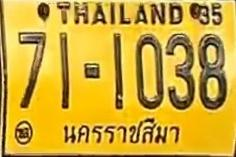0: (136, 34, 163, 109)
1: (112, 33, 124, 108), (59, 33, 70, 108)
3: (165, 34, 195, 110)
7: (18, 31, 46, 108)
8: (198, 34, 227, 110)
NMA: (58, 113, 187, 148)
